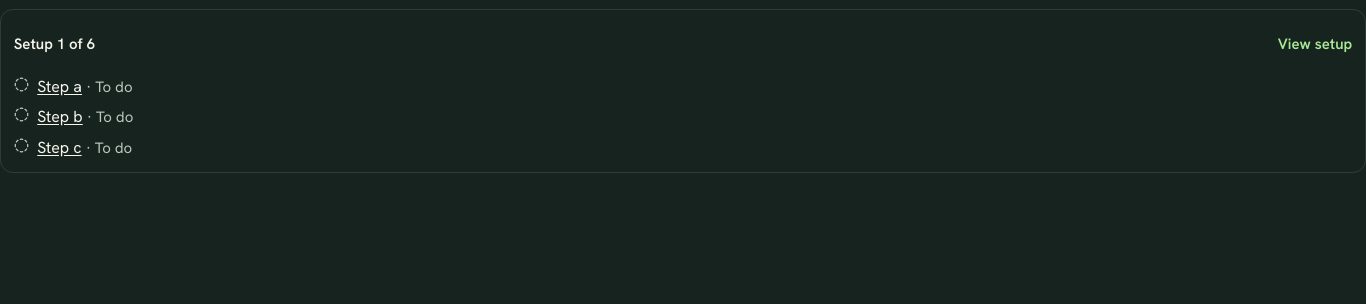
Scenario: cards › the checklist leads with up to three open steps, labels status in words, and expands
This screenshot has width=1366, height=304.
Expected: the number of list items is 3, [14,76,133,97]; [14,106,133,127]; [14,136,132,158]
Expected: the text "Done step" is not shown
Click the button "View setup" at (1315, 44), box [1278,22,1352,66]
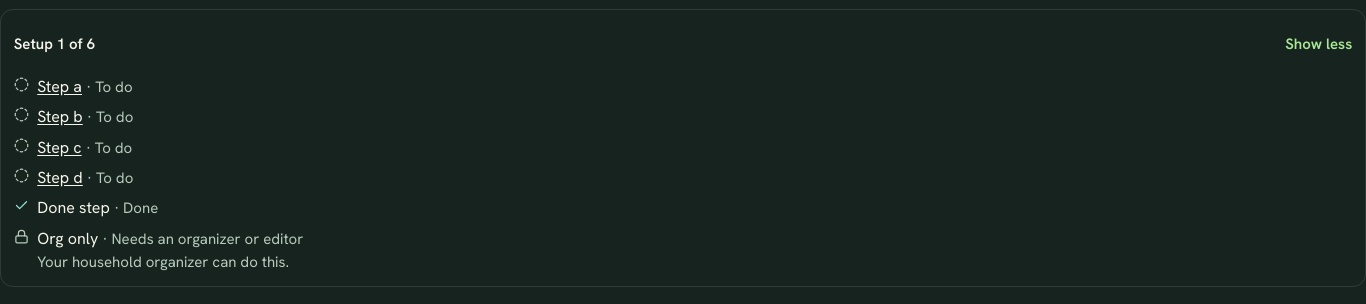
Expected: the number of list items is 6, [14,76,133,97]; [14,106,133,127]; [14,136,132,158]; [14,167,133,188]; [14,197,158,218]; [14,228,303,272]
Expected: the text "· Done" is shown, [114,198,158,218]
Expected: the text "Your household organizer can do this." is shown, [37,252,289,272]
